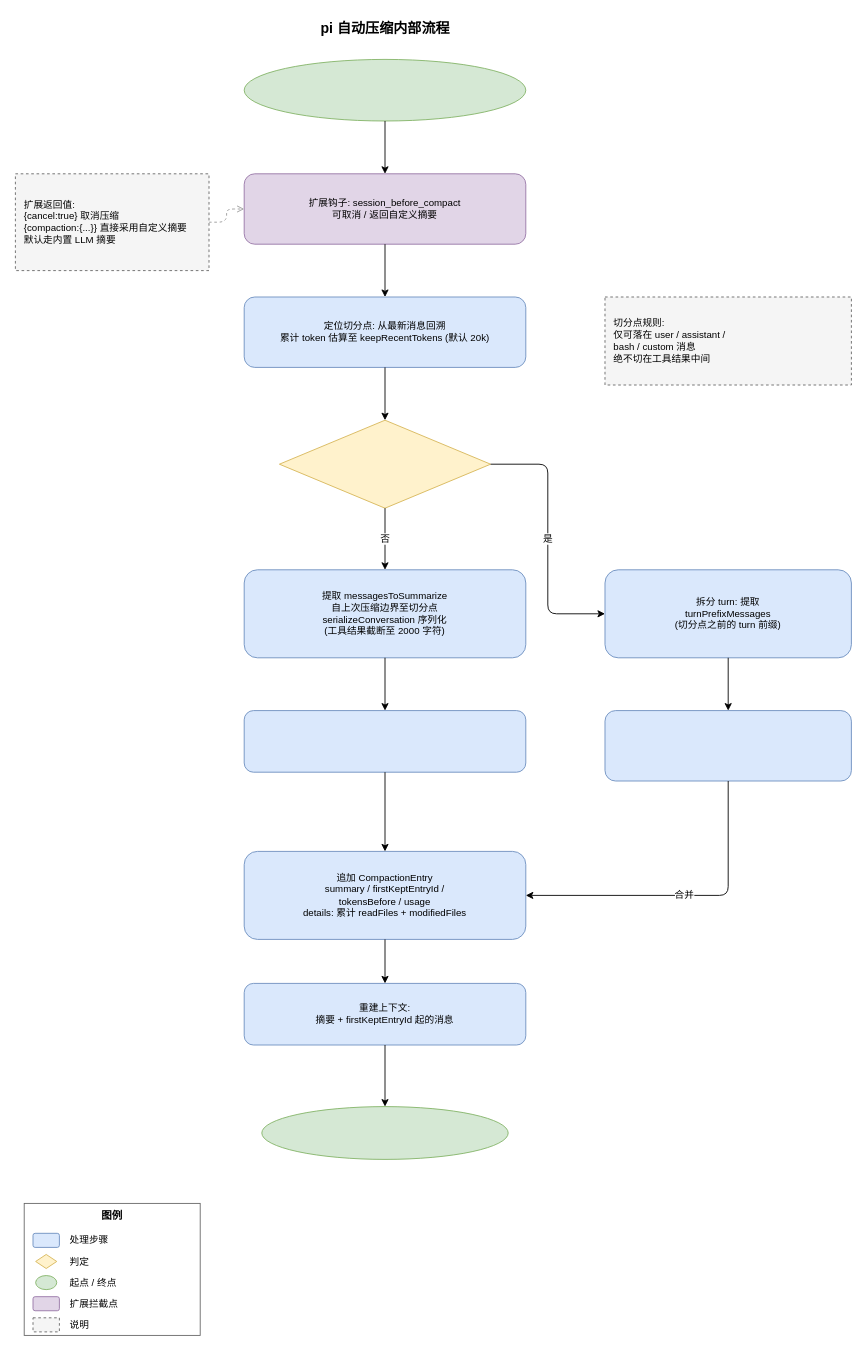
Image size: 867x1351. Some labels were removed from this diagram. The centre of each missing label's shape, as x and y in pixels:
"LLM 生成结构化摘要 上次摘要作为迭代上下文" belongs at (x=384, y=741).
"单个 turn 超过 keepRecentTokens? (isSplitTurn)" belongs at (x=385, y=463).
"压缩触发 越过阈值 / /compact 命令 / 溢出恢复" belongs at (x=384, y=90).
"双摘要生成并合并: 历史摘要 (此前上下文) + turn 前缀摘要" belongs at (x=727, y=745).
"继续本轮 / 下一次请求" belongs at (x=384, y=1132).
